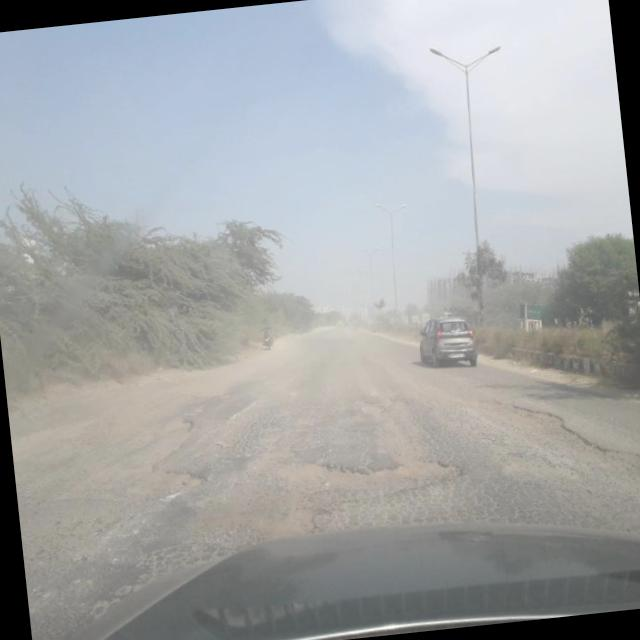crack: (9, 360, 640, 594)
pothole: (478, 372, 640, 529), (38, 406, 220, 516), (268, 418, 472, 514), (344, 373, 420, 428)
